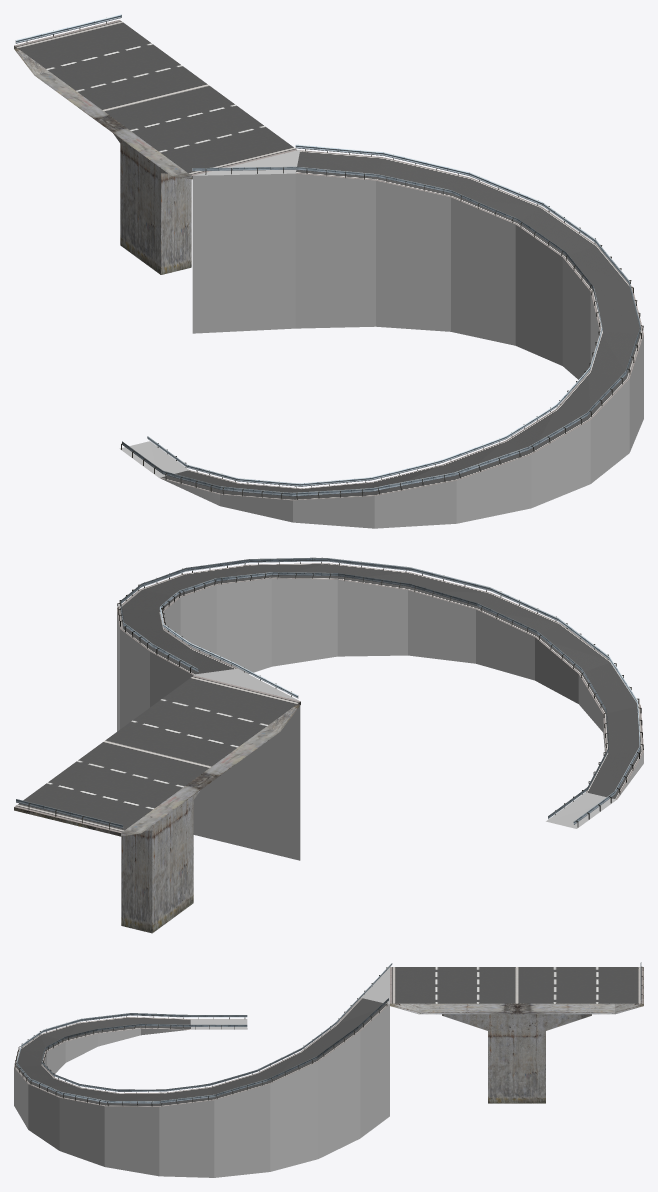
Rendered from 6 line highway offramp_mobile.FBX.
3 views of the same model, one above another, from view 1: azimuth 30°, elevation 25°; view 2: azimuth 150°, elevation 25°; view 3: azimuth 270°, elevation 25° (orthographic). The views are drawn at different scales.
Visible parts, largest first — view 1: Object004; view 2: Object004; view 3: Object004.
Boxes of the visible parts, <box> form: Object004: <box>14,14,643,528</box>; Object004: <box>14,557,643,933</box>; Object004: <box>14,962,643,1177</box>.
Size of the model in its own units: 51.88 by 17.99 by 87.04.
